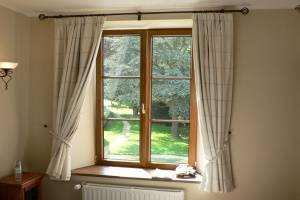window: (94, 28, 199, 171)
